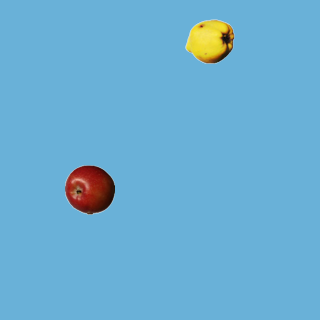Apple Braeburn: (64, 164, 114, 214)
Quince: (184, 16, 234, 66)
